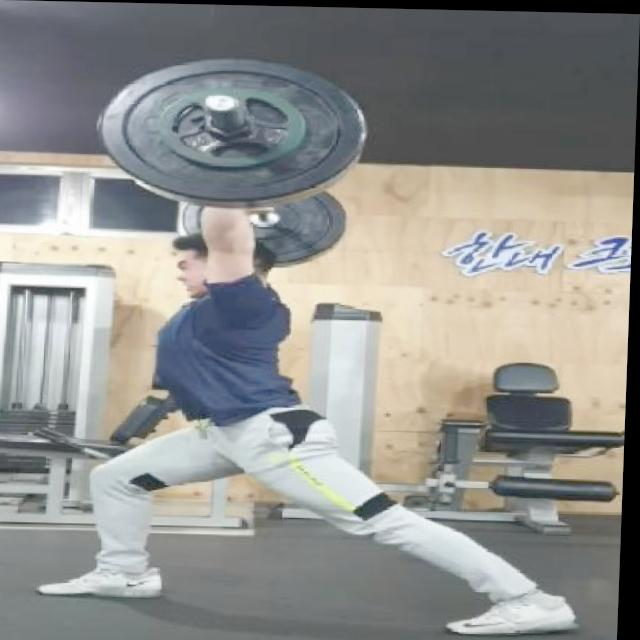barbell: (92, 50, 374, 212)
